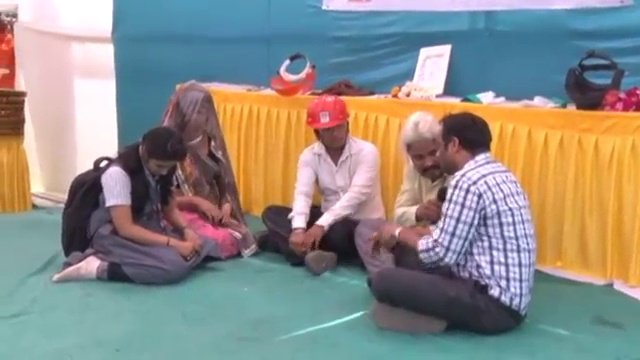helmet: (301, 97, 354, 132)
helmet_off: (437, 114, 492, 176), (165, 87, 219, 149), (398, 111, 449, 175), (132, 126, 188, 182)
helmet_on: (304, 102, 360, 162)
person: (368, 105, 541, 334), (52, 123, 215, 287), (260, 81, 385, 273), (163, 76, 252, 266), (357, 106, 451, 276)
